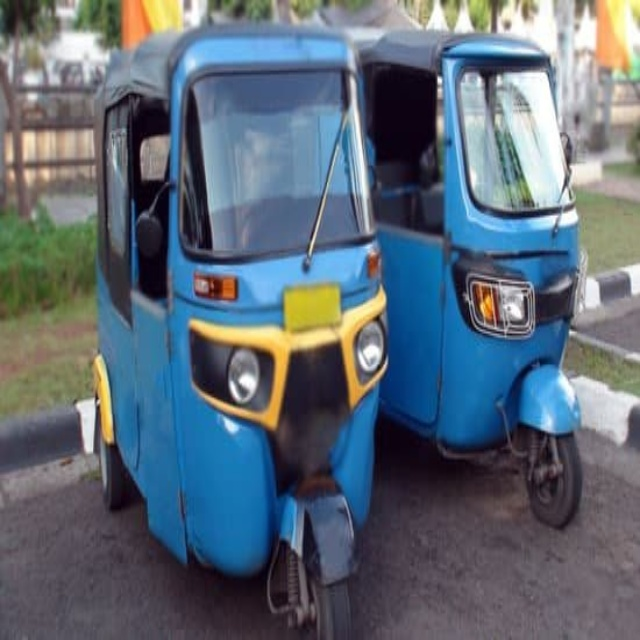Motorcycle: (93, 21, 391, 640), (349, 27, 586, 530)
